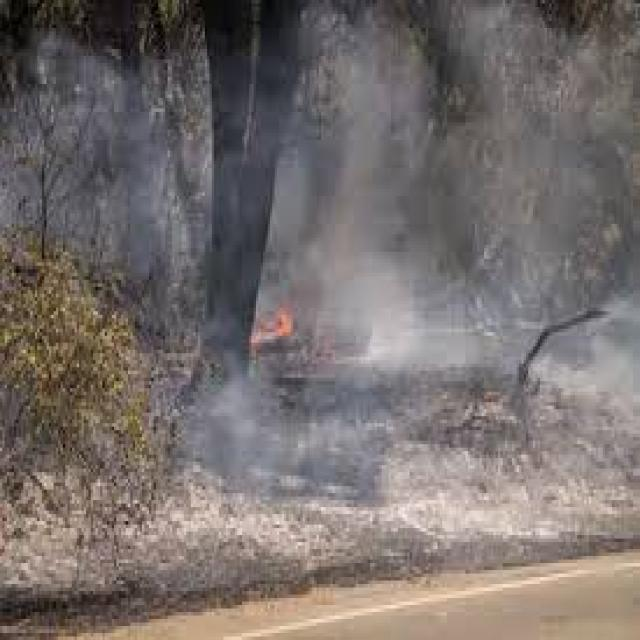Fire: (237, 278, 323, 393)
Smoke: (301, 0, 638, 504), (332, 156, 634, 416)
